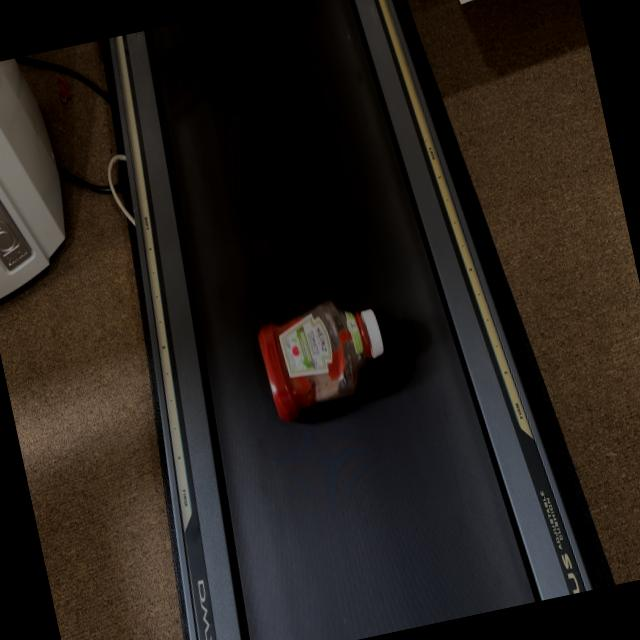Trash: (252, 288, 394, 421)
